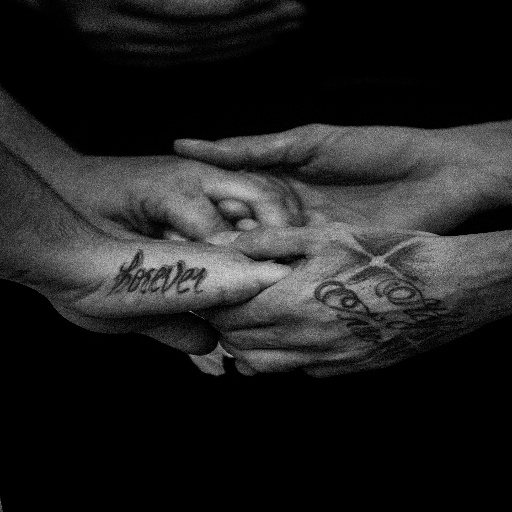hand: (190, 220, 484, 378), (171, 121, 494, 236), (46, 236, 296, 358), (55, 153, 305, 242)
